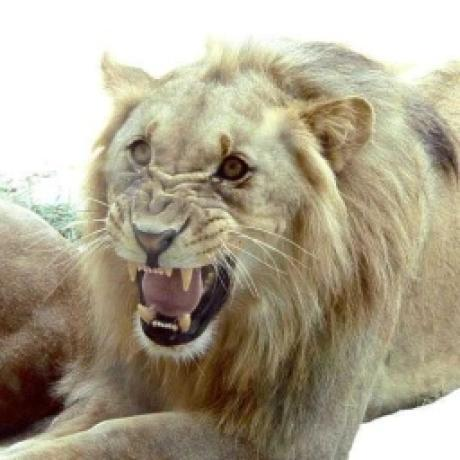Lion: (0, 30, 460, 460)
